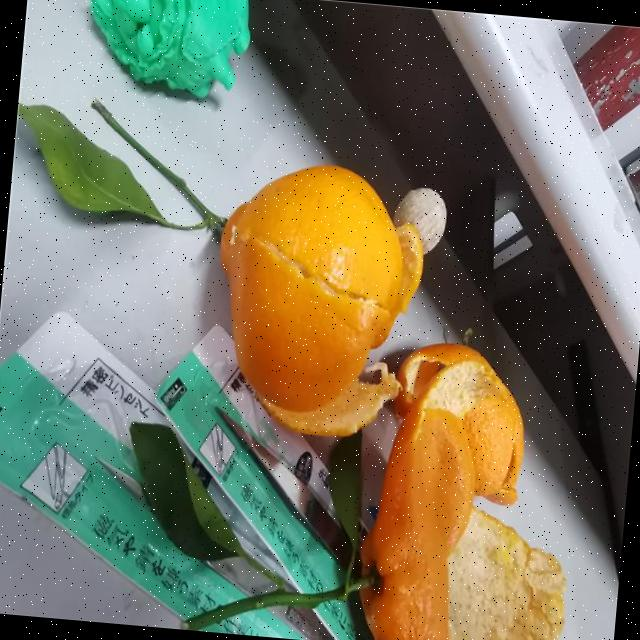orange-peel: (203, 153, 430, 422), (350, 335, 532, 640)
